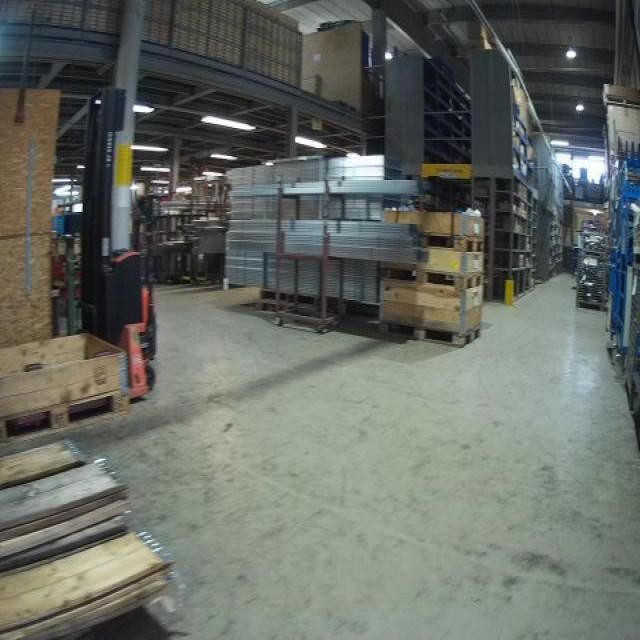pallet: (2, 379, 134, 446), (378, 261, 484, 289), (378, 320, 481, 348), (415, 233, 483, 253)
pallet_truck: (79, 83, 155, 400)
stillage: (622, 261, 640, 409), (575, 254, 608, 311)
